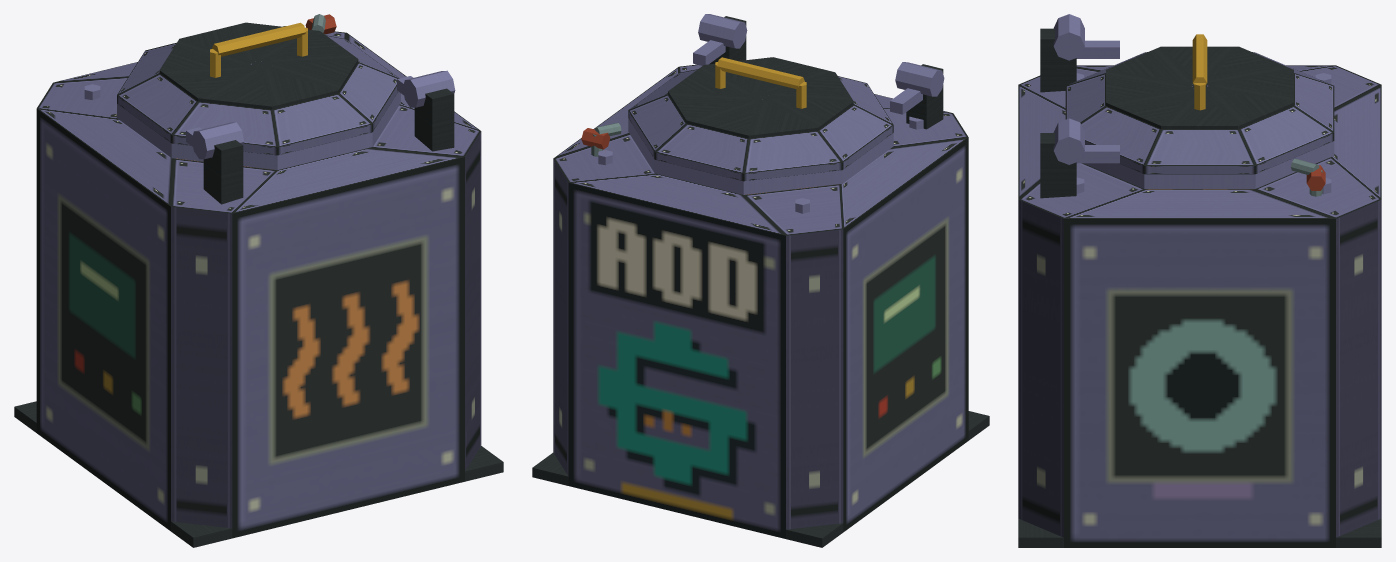
Rendered from small_aod_tungsten_steel.obj.
3 views of the same model, side by side, from view 1: azimuth 30°, elevation 25°; view 2: azimuth 150°, elevation 25°; view 3: azimuth 270°, elevation 25° (orthographic). The views are drawn at different scales.
Visible parts, largest first — view 1: contact_south, contact_west, lid, cut_corners, shoulder, hinge, sole_edge; view 2: contact_north, contact_west, lid, cut_corners, shoulder, hinge, sole_edge, gas_trim; view 3: contact_east, lid, cut_corners, shoulder, hinge, sole_edge, gas_trim.
Boxes of the visible parts, <box> form: contact_south: <box>232,157,464,538</box>; contact_west: <box>36,109,170,531</box>; lid: <box>117,22,413,169</box>; cut_corners: <box>171,131,481,528</box>; shoulder: <box>37,26,480,213</box>; hinge: <box>191,70,455,204</box>; sole_edge: <box>14,401,503,547</box>; contact_north: <box>568,183,785,538</box>; contact_west: <box>843,137,968,532</box>; lid: <box>628,40,922,194</box>; cut_corners: <box>553,159,843,529</box>; shoulder: <box>553,64,968,235</box>; hinge: <box>698,14,944,129</box>; sole_edge: <box>532,411,989,547</box>; gas_trim: <box>581,123,621,156</box>; contact_east: <box>1064,219,1335,547</box>; lid: <box>1065,34,1334,188</box>; cut_corners: <box>1018,200,1381,537</box>; shoulder: <box>1018,65,1381,218</box>; hinge: <box>1040,14,1084,198</box>; sole_edge: <box>1018,518,1381,547</box>; gas_trim: <box>1291,159,1325,196</box>.
Bounding box in the file's own units: 1 × 1.26 × 1.
Materials: 14 (14 with a texture image).
